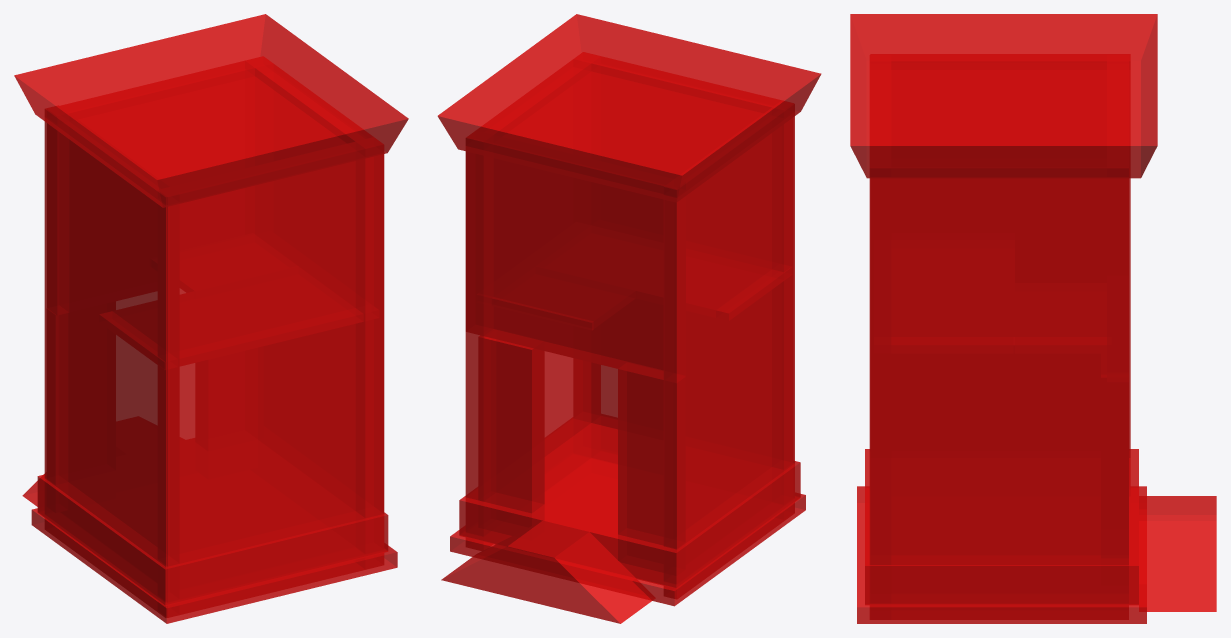
File: SM_Bld_Guard_Tower_01_Collision.fbx
3 renders of one model, left to right at view 1: azimuth 30°, elevation 25°; view 2: azimuth 150°, elevation 25°; view 3: azimuth 270°, elevation 25°, orthographic. The views are drawn at different scales.
Parts seen in each view (by area): view 1: SM_Bld_Guard_Tower_01_Collision; view 2: SM_Bld_Guard_Tower_01_Collision; view 3: SM_Bld_Guard_Tower_01_Collision.
Part boxes in pixels (bbox=[...]): SM_Bld_Guard_Tower_01_Collision: bbox=[14, 14, 408, 623]; SM_Bld_Guard_Tower_01_Collision: bbox=[437, 14, 821, 623]; SM_Bld_Guard_Tower_01_Collision: bbox=[850, 14, 1216, 623].
Bounding box in the file's own units: 385 × 657 × 452.
